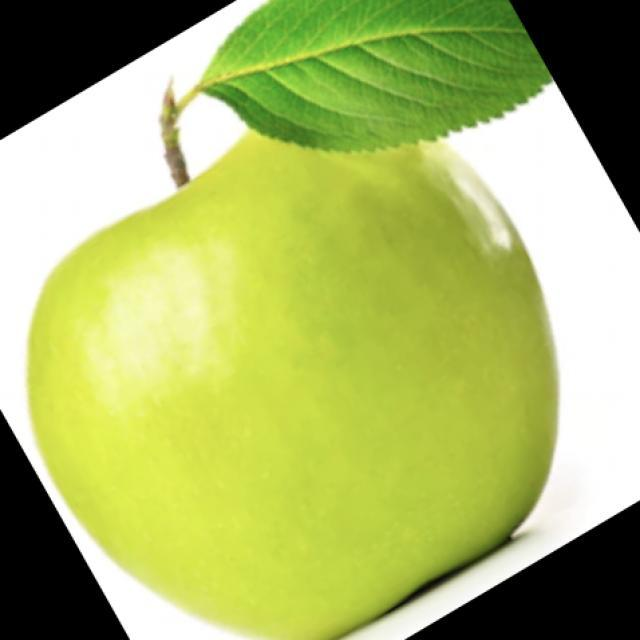Fresh Apple: (52, 138, 570, 598)
